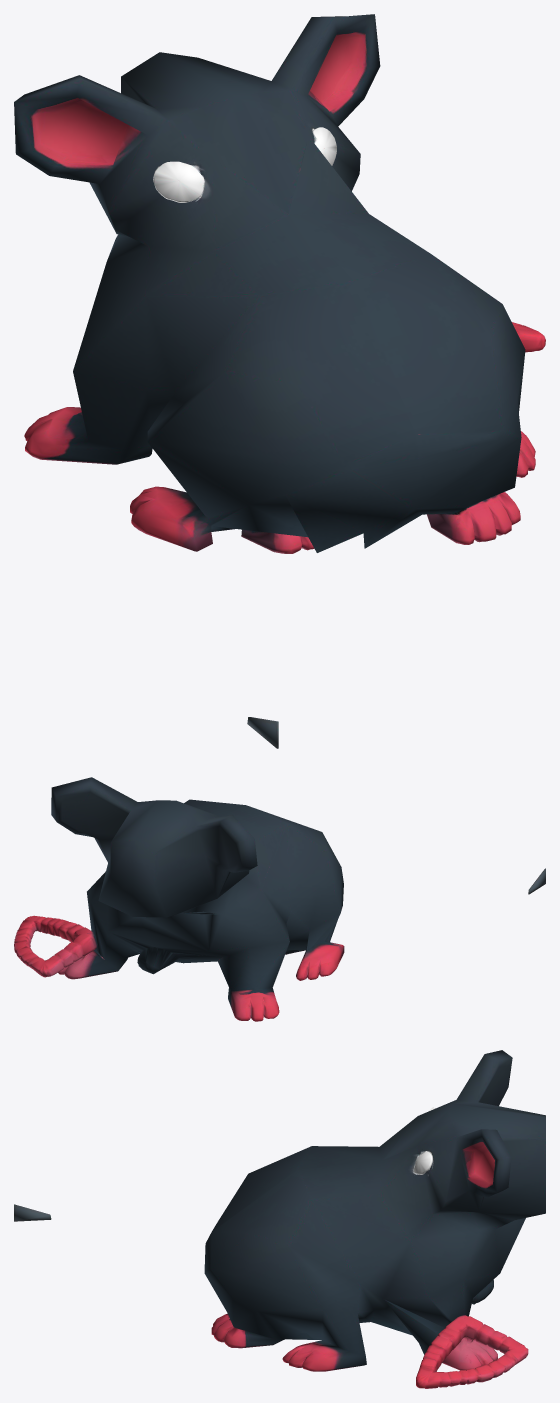
File: 019e0f98-217f-7e12-ab0d-47e6eed2ae36.glb
3 views of the same model, one above another, from view 1: azimuth 30°, elevation 25°; view 2: azimuth 150°, elevation 25°; view 3: azimuth 270°, elevation 25° (orthographic). The views are drawn at different scales.
Parts seen in each view (by area): view 1: tripo_node_e6ebc23b-9265-4997-af02-22baed08bb21; view 2: tripo_node_e6ebc23b-9265-4997-af02-22baed08bb21; view 3: tripo_node_e6ebc23b-9265-4997-af02-22baed08bb21.
Boxes of the visible parts, x1,y1,x2,y2 form: tripo_node_e6ebc23b-9265-4997-af02-22baed08bb21: (14,14,545,748); tripo_node_e6ebc23b-9265-4997-af02-22baed08bb21: (14,777,545,1021); tripo_node_e6ebc23b-9265-4997-af02-22baed08bb21: (14,1050,545,1388).
Size of the model in its own units: 0.8066 by 0.4629 by 0.998.
Materials: 1 (1 with a texture image).
